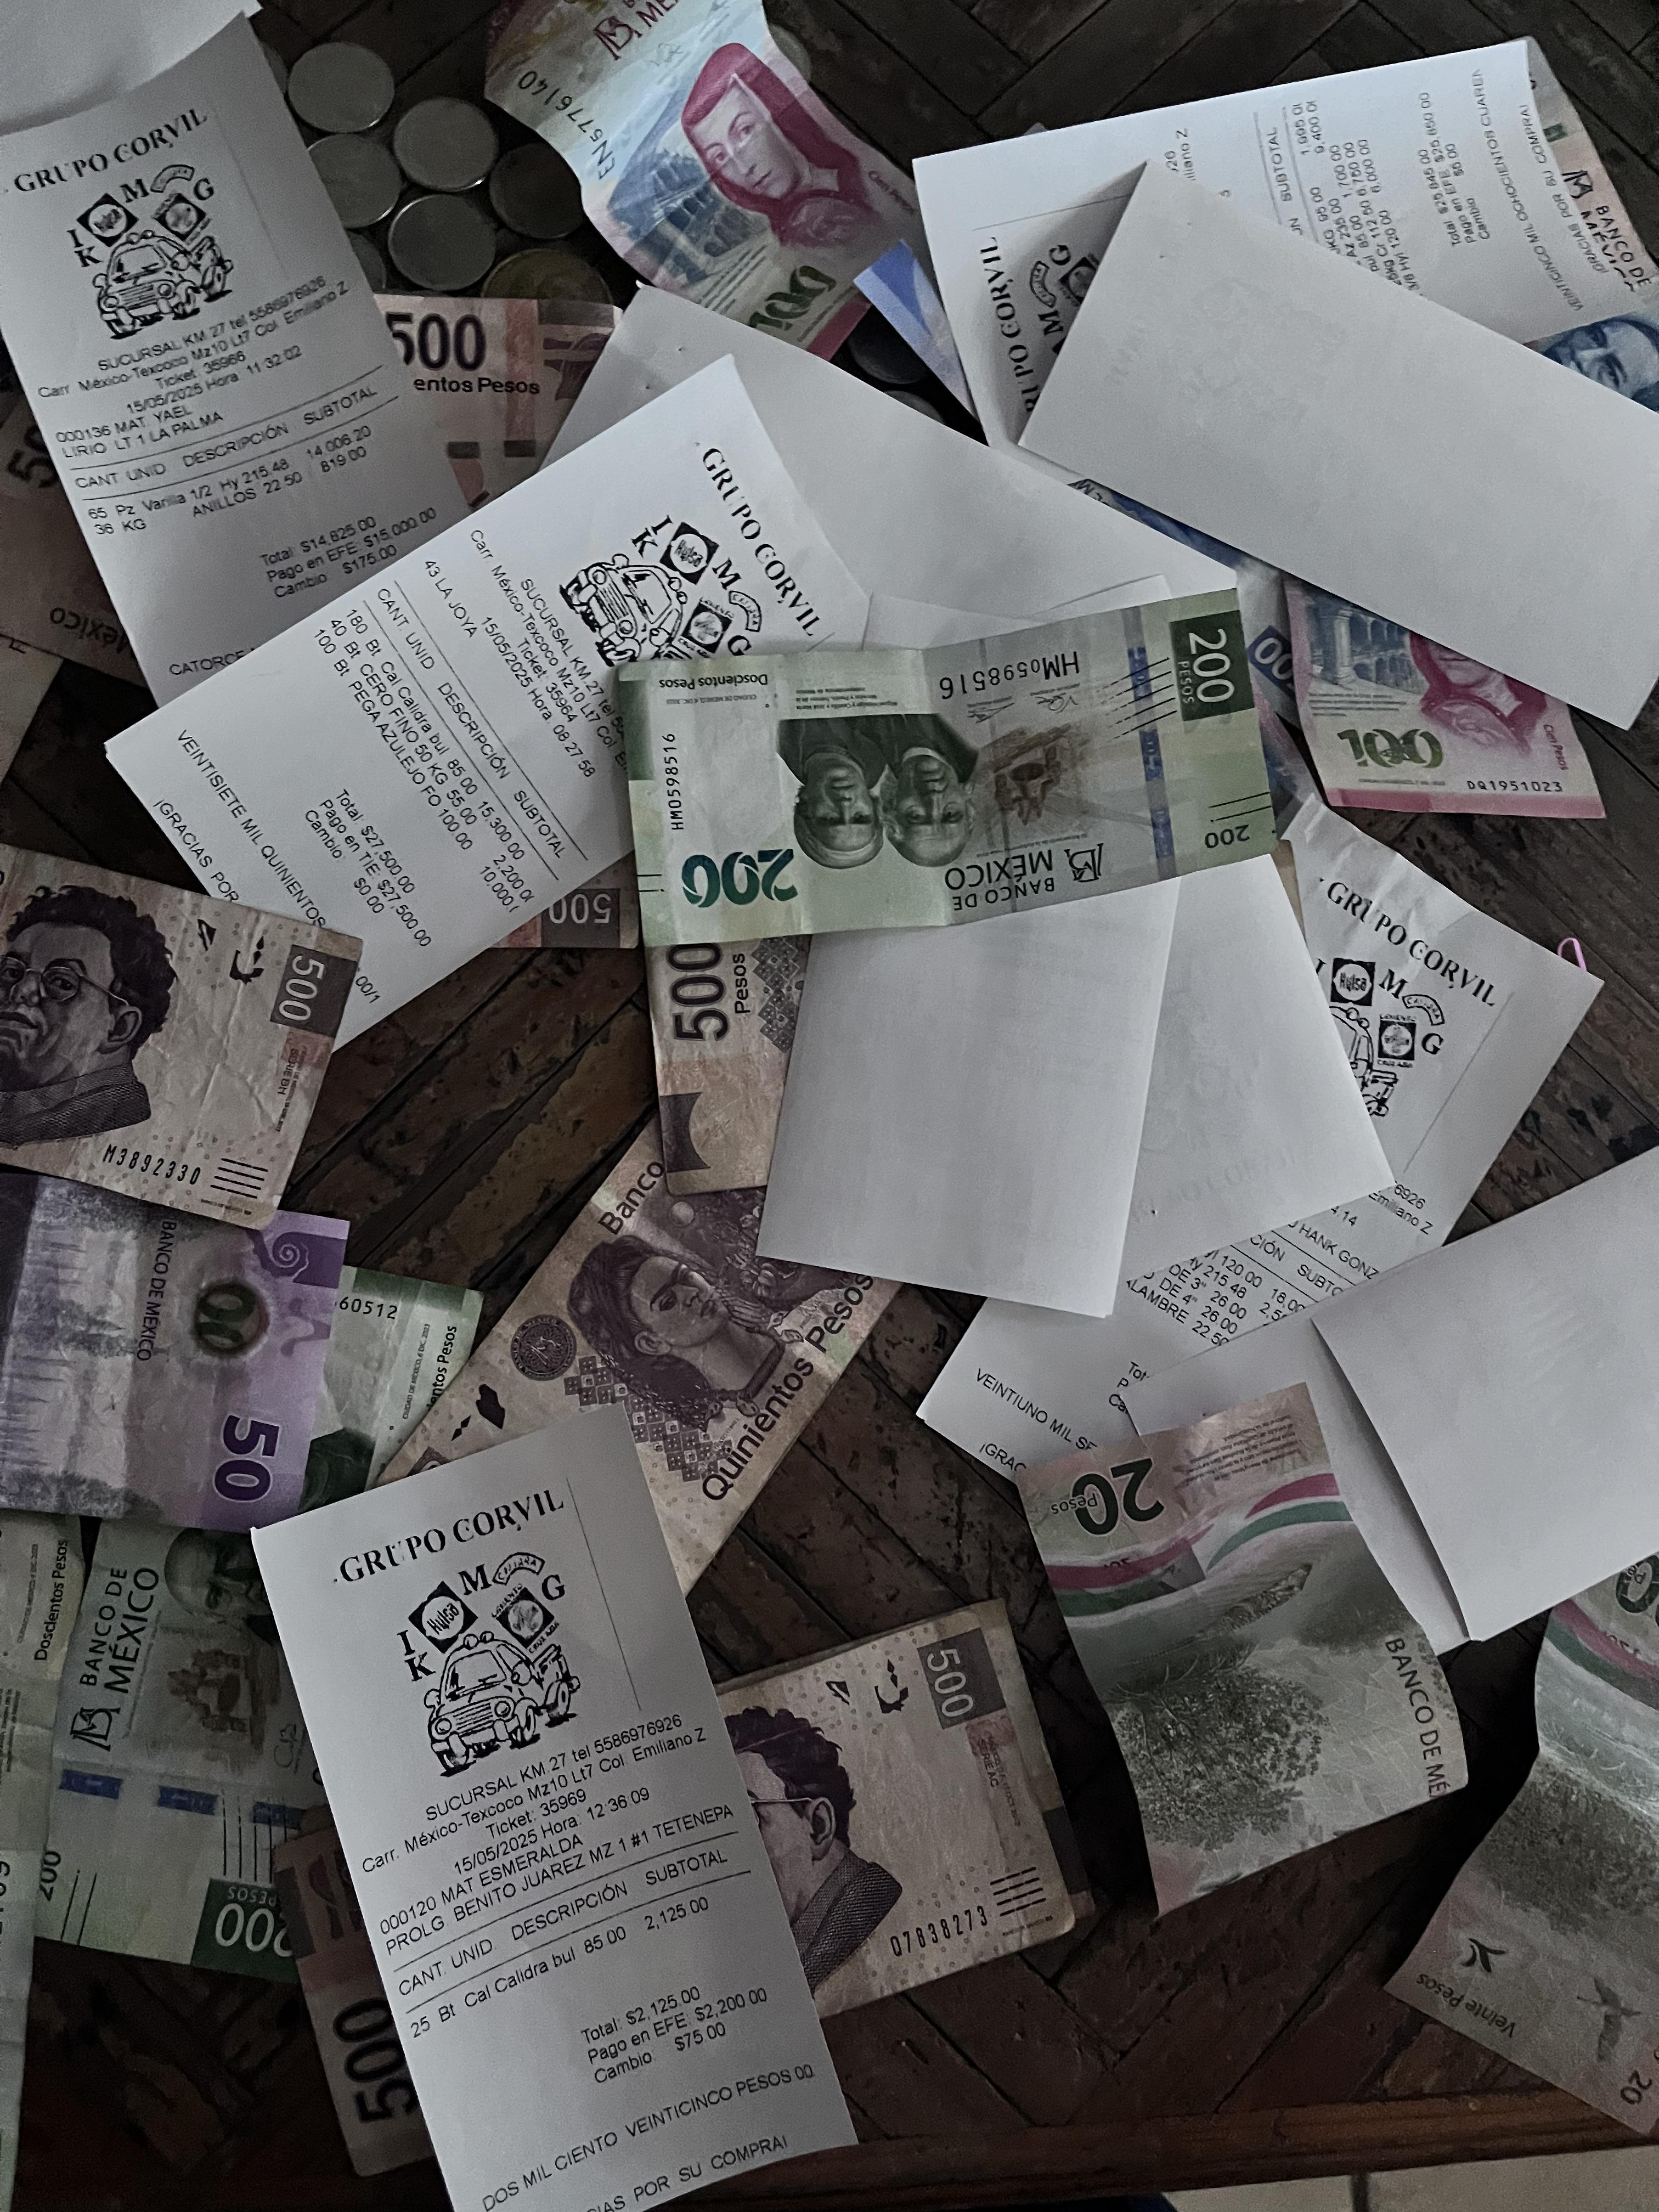100: (444, 0, 971, 378), (1253, 519, 1640, 867)
20: (997, 1418, 1485, 1965), (1432, 1500, 1659, 2212)
200: (0, 1221, 403, 2027), (565, 611, 1324, 941)
50: (0, 1177, 364, 1552)
500: (235, 1625, 1100, 2175), (383, 1080, 936, 1635), (0, 813, 357, 1242), (551, 822, 866, 1204), (305, 286, 666, 512)
500 nuevo: (1443, 277, 1659, 448)
